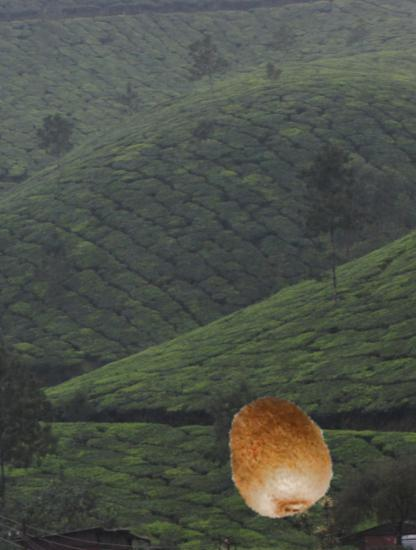Kiwi: (215, 395, 340, 520)
